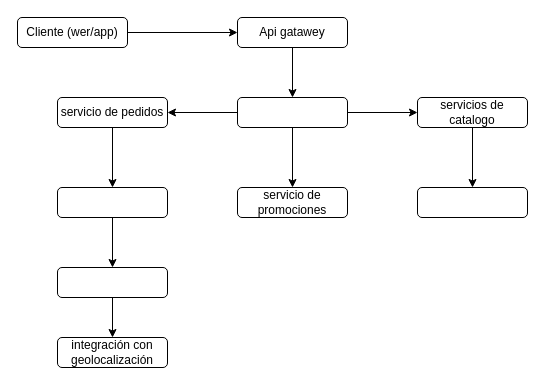
This 545x385 diagram has some shape labels left out. The shapes that lost their labels are listed below. From the top down, each one's box as (x1, y1, x2, y2) in pixels, then its label:
(236, 96, 348, 128): servicios de usuarios
(56, 186, 168, 218): Servicios de pagos
(56, 266, 168, 298): servicios de entregas
